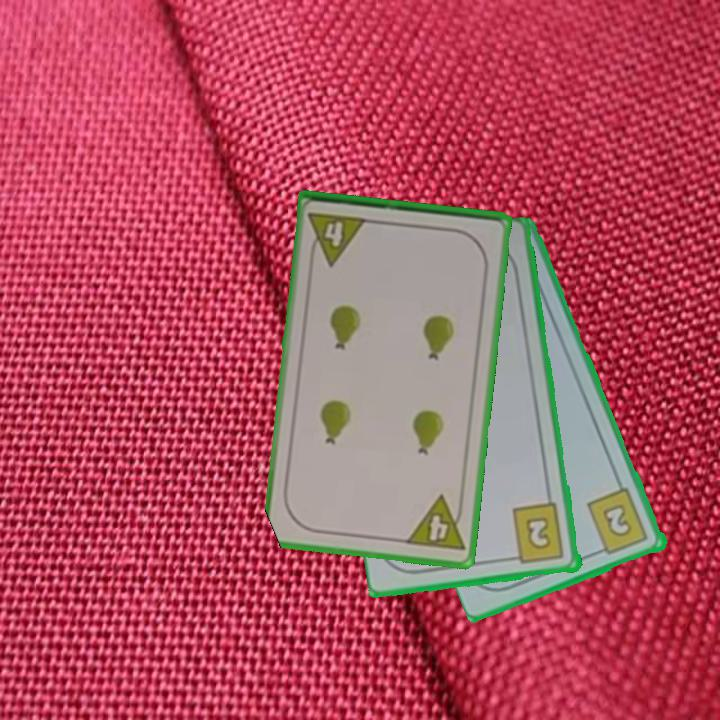2b: (584, 485, 652, 558), (506, 500, 568, 567)
4p: (402, 492, 467, 555), (305, 208, 370, 268)
